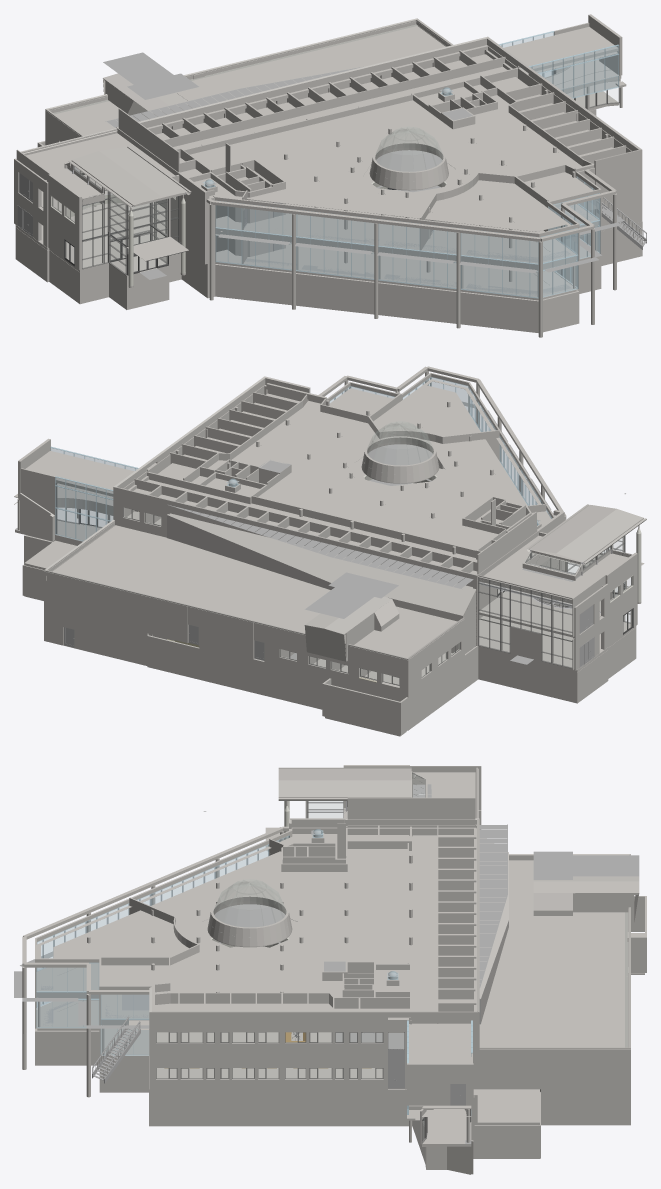
3 views of the same model, one above another, from view 1: azimuth 30°, elevation 25°; view 2: azimuth 150°, elevation 25°; view 3: azimuth 270°, elevation 25° (orthographic). The views are drawn at different scales.
Visible parts, largest first — view 1: 2yg2S2iqPEpAl8$4cpH9w8, 06WjnPoAnDXOrChn5Twmar, 3XjPvPbMT4svT8O8o$H3zX, 2z1hk0rOv4n9AR$z0gEKbY, 1NAn1gTG95MPVjUQfhB9iT, 2bLyU28RfEDB_QBWV$r7qT, 27mQQcQybDvfuudcuUc9pQ, 02Oqblklz1pQuyuGtpOHHB, 2Voda4ngbFzfWWLPGsC99W, 2gJxgQFirDQA7W7mGqR6sv, 3mPns3aT9AcPhD9cdqgBTs, 2UvxRRajTFZAwn0aEPZdvl (+61 smaller); view 2: 2yg2S2iqPEpAl8$4cpH9w8, 1NAn1gTG95MPVjUQfhB9iT, 18YMn3Igz7$eAI$$oTxeK$, 1_VIhFPonDOuxhZV3_Fupd, 1SqD$sBQnEuuiO0R9_Dbmg, 3XjPvPbMT4svT8O8o$H3zX, 02Oqblklz1pQuyuGtpOHHB, 27mQQcQybDvfuudcuUc9pQ, 3tgOnpCBzBSvaMXHpxcxT9, 2S_YFU8FPEDAVZYJxdVmTR, 1X$2QH$MLB3RLQ4UtYuolI, 058f8Hvuj99xAJGeOkN56B (+51 smaller); view 3: 2yg2S2iqPEpAl8$4cpH9w8, 1NAn1gTG95MPVjUQfhB9iT, 3hAUYi$7T34By$$I9zc4q0, 3Cb_Sl2iL2nAPrkPHBwvTh, 3XjPvPbMT4svT8O8o$H3zX, 0Al7luiz94fQyZ_RizIprC, 02Oqblklz1pQuyuGtpOHHB, 27mQQcQybDvfuudcuUc9pQ, 1SYEL3gVj5tB5zpeXIWpIw, 0X9qQNIpnE$BvXgevazSjH, 3tHeE$rwT6Qua3MYmYgqN0, 2UvxRRajTFZAwn0aEPZdvl (+47 smaller).
Part boxes in pixels (bbox=[...]): 2yg2S2iqPEpAl8$4cpH9w8: bbox=[190, 95, 581, 218]; 06WjnPoAnDXOrChn5Twmar: bbox=[215, 264, 538, 332]; 3XjPvPbMT4svT8O8o$H3zX: bbox=[15, 91, 640, 288]; 2z1hk0rOv4n9AR$z0gEKbY: bbox=[215, 235, 538, 298]; 1NAn1gTG95MPVjUQfhB9iT: bbox=[55, 26, 445, 135]; 2bLyU28RfEDB_QBWV$r7qT: bbox=[215, 200, 538, 264]; 27mQQcQybDvfuudcuUc9pQ: bbox=[425, 180, 565, 231]; 02Oqblklz1pQuyuGtpOHHB: bbox=[68, 146, 191, 208]; 2Voda4ngbFzfWWLPGsC99W: bbox=[216, 204, 598, 264]; 2gJxgQFirDQA7W7mGqR6sv: bbox=[175, 163, 549, 255]; 3mPns3aT9AcPhD9cdqgBTs: bbox=[216, 240, 590, 297]; 2UvxRRajTFZAwn0aEPZdvl: bbox=[504, 26, 618, 71]; 2yg2S2iqPEpAl8$4cpH9w8: bbox=[208, 400, 528, 550]; 1NAn1gTG95MPVjUQfhB9iT: bbox=[53, 525, 457, 658]; 18YMn3Igz7$eAI$$oTxeK$: bbox=[167, 513, 476, 617]; 1_VIhFPonDOuxhZV3_Fupd: bbox=[199, 648, 403, 708]; 1SqD$sBQnEuuiO0R9_Dbmg: bbox=[44, 580, 188, 643]; 3XjPvPbMT4svT8O8o$H3zX: bbox=[15, 483, 636, 698]; 02Oqblklz1pQuyuGtpOHHB: bbox=[526, 504, 646, 565]; 27mQQcQybDvfuudcuUc9pQ: bbox=[373, 385, 480, 436]; 3tgOnpCBzBSvaMXHpxcxT9: bbox=[48, 609, 148, 665]; 2S_YFU8FPEDAVZYJxdVmTR: bbox=[264, 634, 403, 695]; 1X$2QH$MLB3RLQ4UtYuolI: bbox=[478, 648, 577, 702]; 058f8Hvuj99xAJGeOkN56B: bbox=[479, 535, 628, 603]; 2yg2S2iqPEpAl8$4cpH9w8: bbox=[151, 849, 407, 997]; 1NAn1gTG95MPVjUQfhB9iT: bbox=[479, 860, 624, 1047]; 3hAUYi$7T34By$$I9zc4q0: bbox=[149, 1092, 412, 1125]; 3Cb_Sl2iL2nAPrkPHBwvTh: bbox=[155, 1018, 408, 1053]; 3XjPvPbMT4svT8O8o$H3zX: bbox=[57, 946, 471, 1146]; 0Al7luiz94fQyZ_RizIprC: bbox=[479, 1058, 630, 1089]; 02Oqblklz1pQuyuGtpOHHB: bbox=[278, 767, 411, 800]; 27mQQcQybDvfuudcuUc9pQ: bbox=[53, 910, 188, 958]; 1SYEL3gVj5tB5zpeXIWpIw: bbox=[540, 1089, 630, 1125]; 0X9qQNIpnE$BvXgevazSjH: bbox=[347, 797, 475, 825]; 3tHeE$rwT6Qua3MYmYgqN0: bbox=[407, 1063, 473, 1105]; 2UvxRRajTFZAwn0aEPZdvl: bbox=[409, 1023, 471, 1063].
Bounding box in the file's own units: 66.6 × 16.1 × 58.94.
